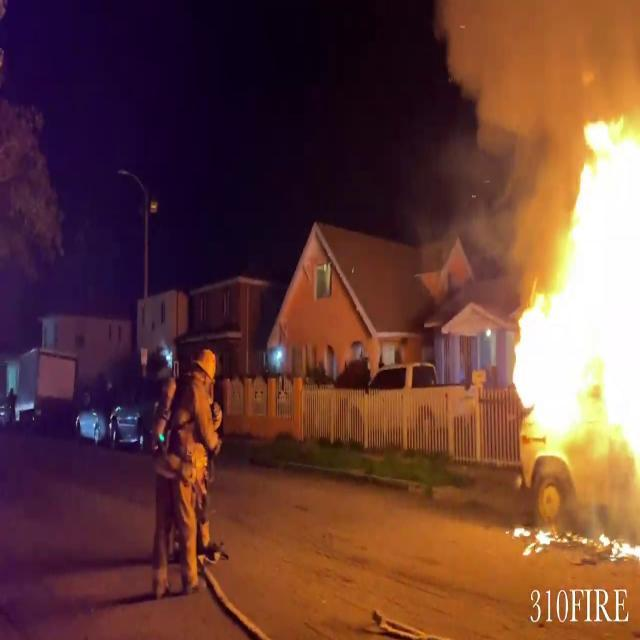Fire: (500, 100, 640, 480)
Smoke: (432, 0, 640, 140)
